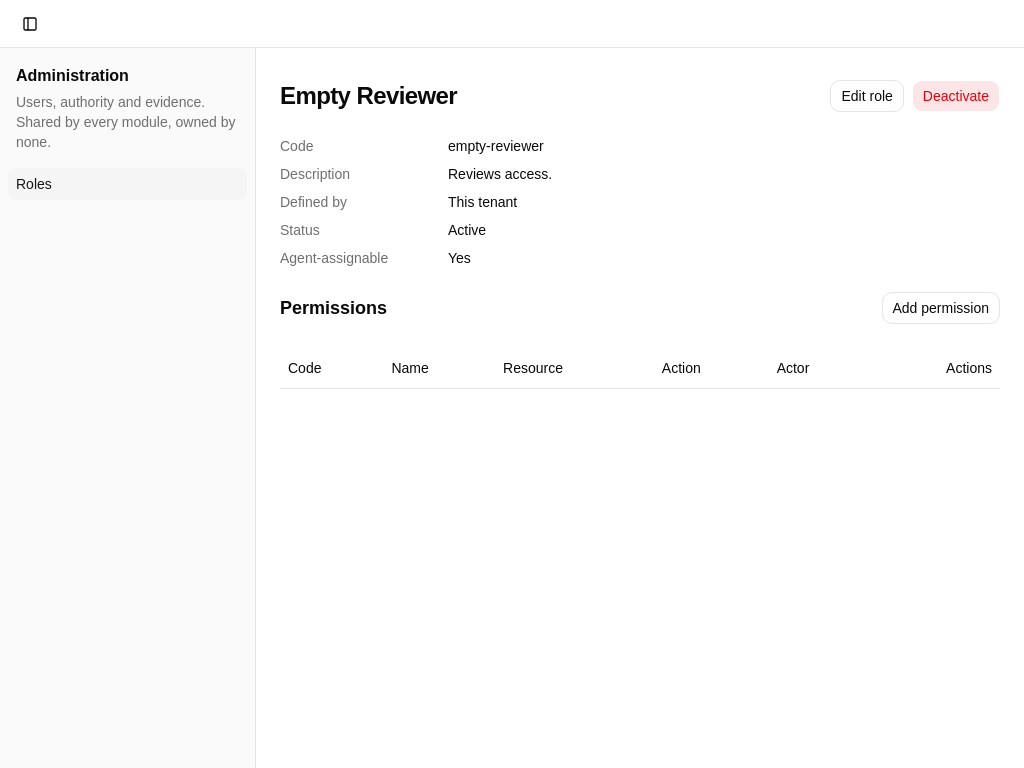
it: what the confirmation says › drops the holder sentence when the role has none
Expected: the table named "Permissions" is shown, [280,348,1000,388]
Click the button "Deactivate" at (956, 96), box [912,80,1000,112]
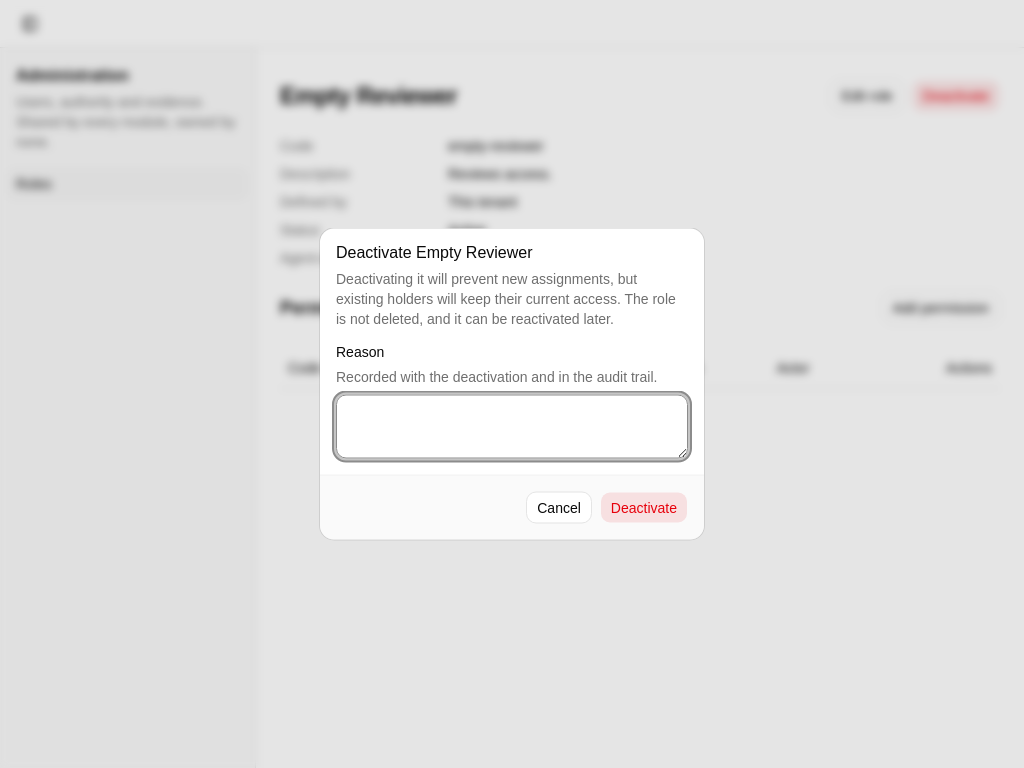
Expected: the dialog shows "prevent new assignments", [336,270,676,326]
